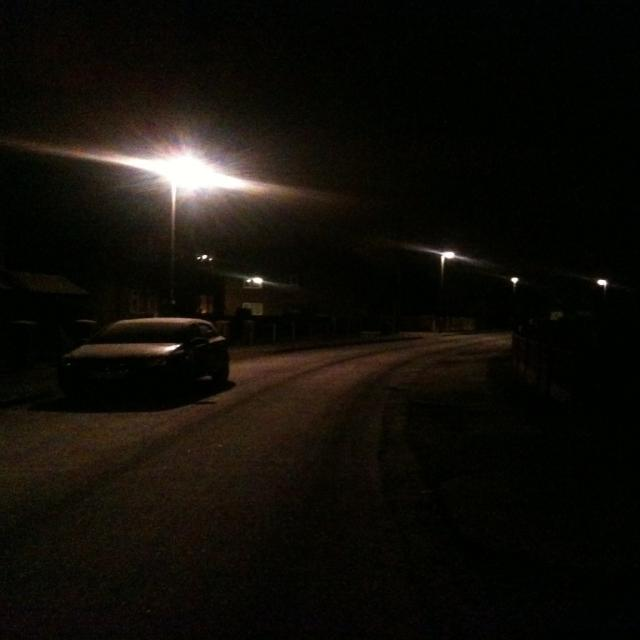car: (54, 313, 233, 405)
